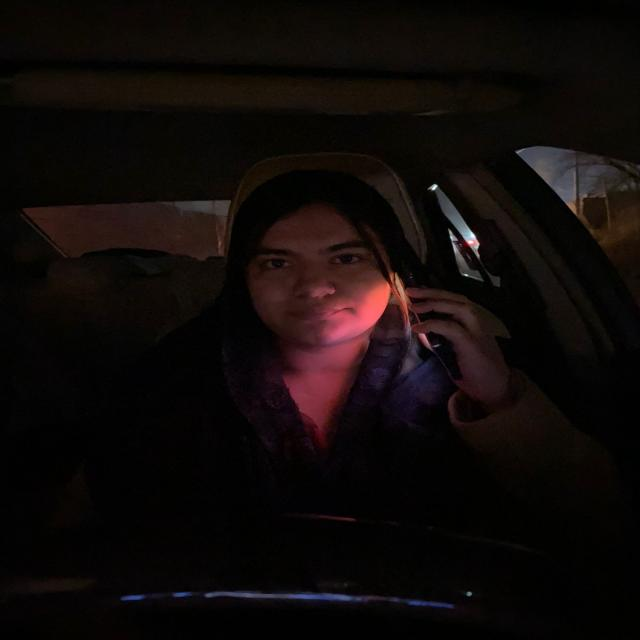mobile: (386, 274, 469, 376)
person: (245, 184, 384, 337)
